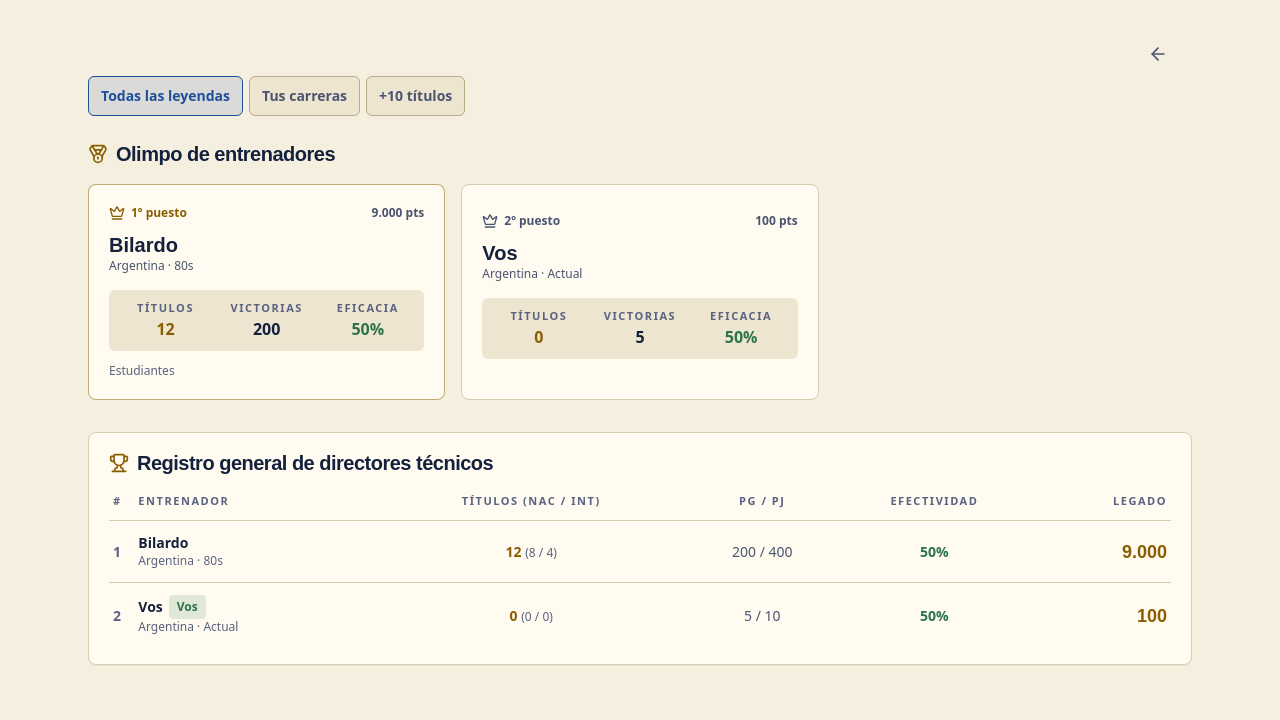
Test case: pantalla Salón de la Fama › muestra el podio y abre la ficha de un entrenador
Click the button with aria-label "Ver ficha de Bilardo" at (181, 551), box [138,533,223,569]
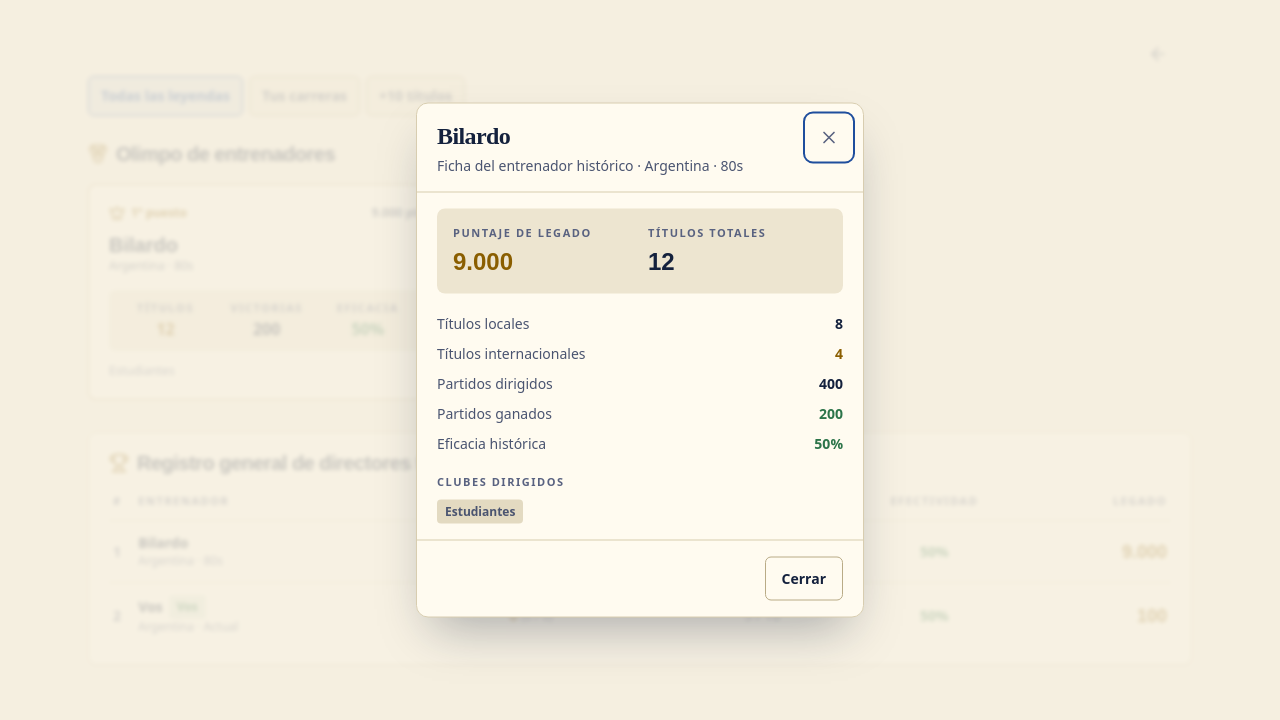
Check: the text "Estudiantes" is shown, box [437,500,523,524]
